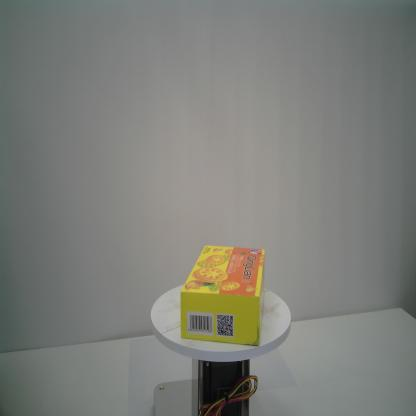Dessert: (178, 244, 266, 348)
